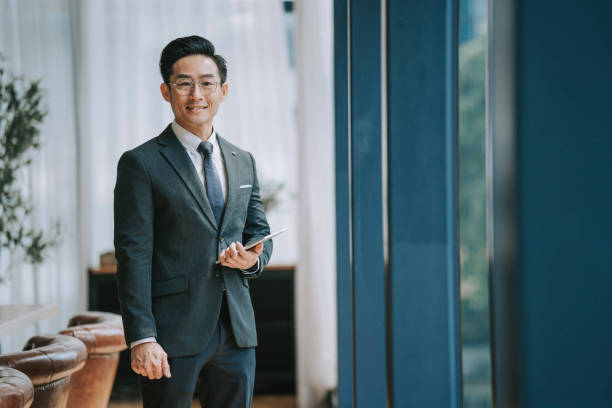Male: (114, 33, 277, 408)
